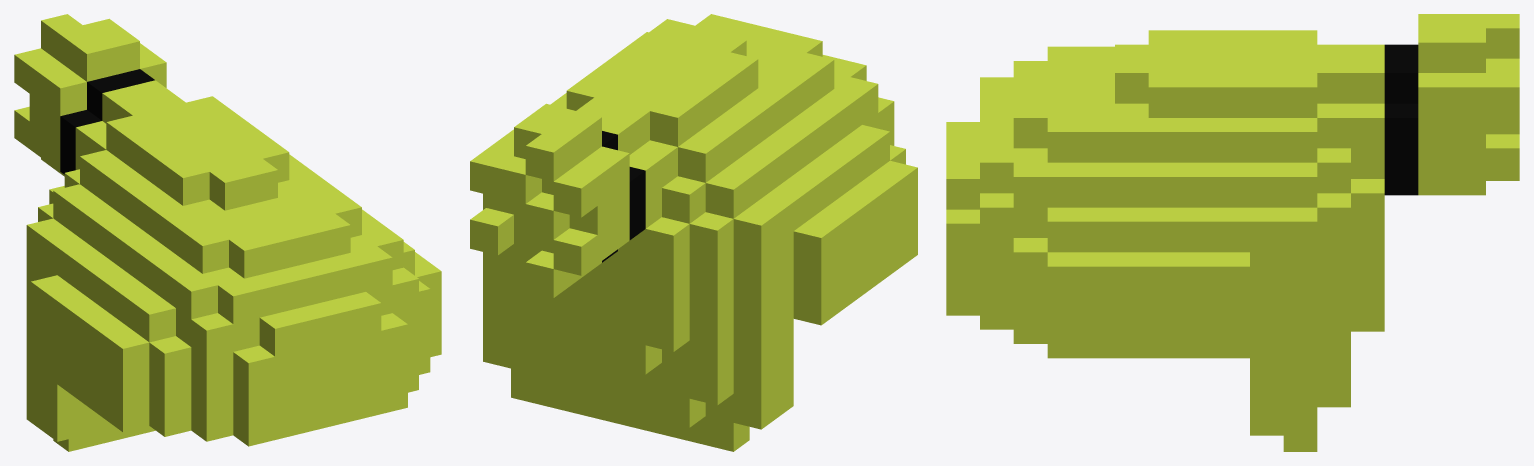
File: Hair2.fbx
The picture shows the model from 3 angles, left to right: view 1: azimuth 30°, elevation 25°; view 2: azimuth 150°, elevation 25°; view 3: azimuth 270°, elevation 25°; orthographic projection. The views are drawn at different scales.
Parts seen in each view (by area): view 1: Hair2; view 2: Hair2; view 3: Hair2.
Part boxes in pixels (x1,y1,x2,y2): Hair2: [14, 14, 441, 451]; Hair2: [470, 14, 917, 451]; Hair2: [946, 14, 1519, 451].
Bounding box in the file's own units: 120 × 120 × 170.
